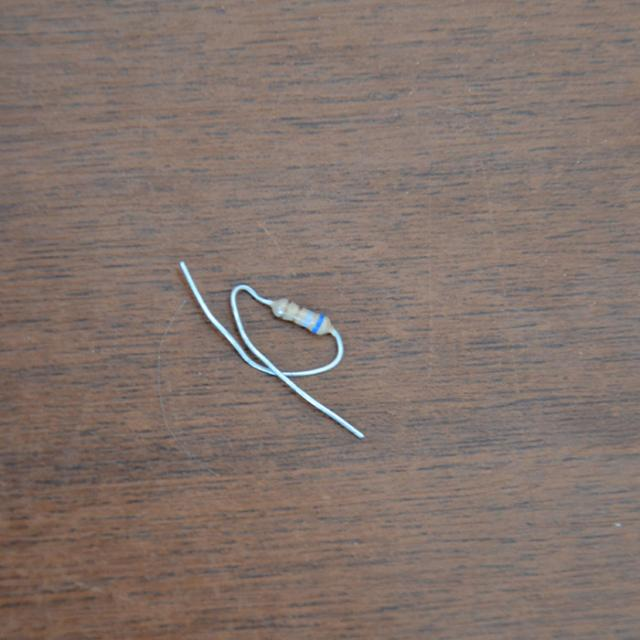blue: (312, 314, 325, 332)
gold: (281, 300, 293, 317), (292, 305, 303, 321)
grey: (303, 311, 314, 326)
resistor: (265, 272, 336, 348)
